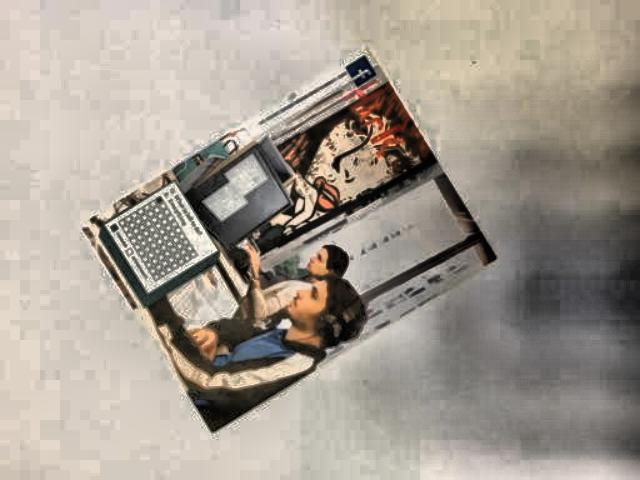Paper: (81, 42, 498, 442)
